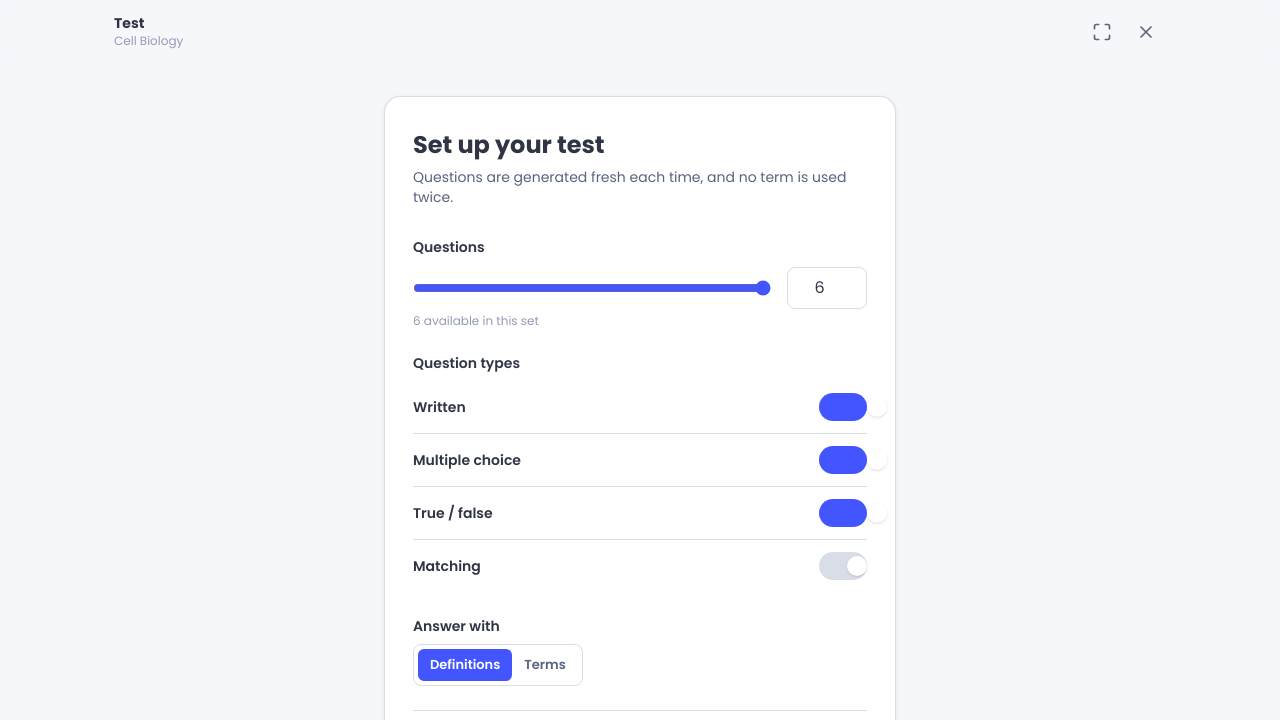
Scenario: Test › refuses to start with no question types selected
The image size is (1280, 720).
Expected: the heading "Set up your test" is shown, top-left (413, 128), bottom-right (605, 161)
Click the switch named "Written" at (843, 407), box top-left (819, 393), bottom-right (867, 421)
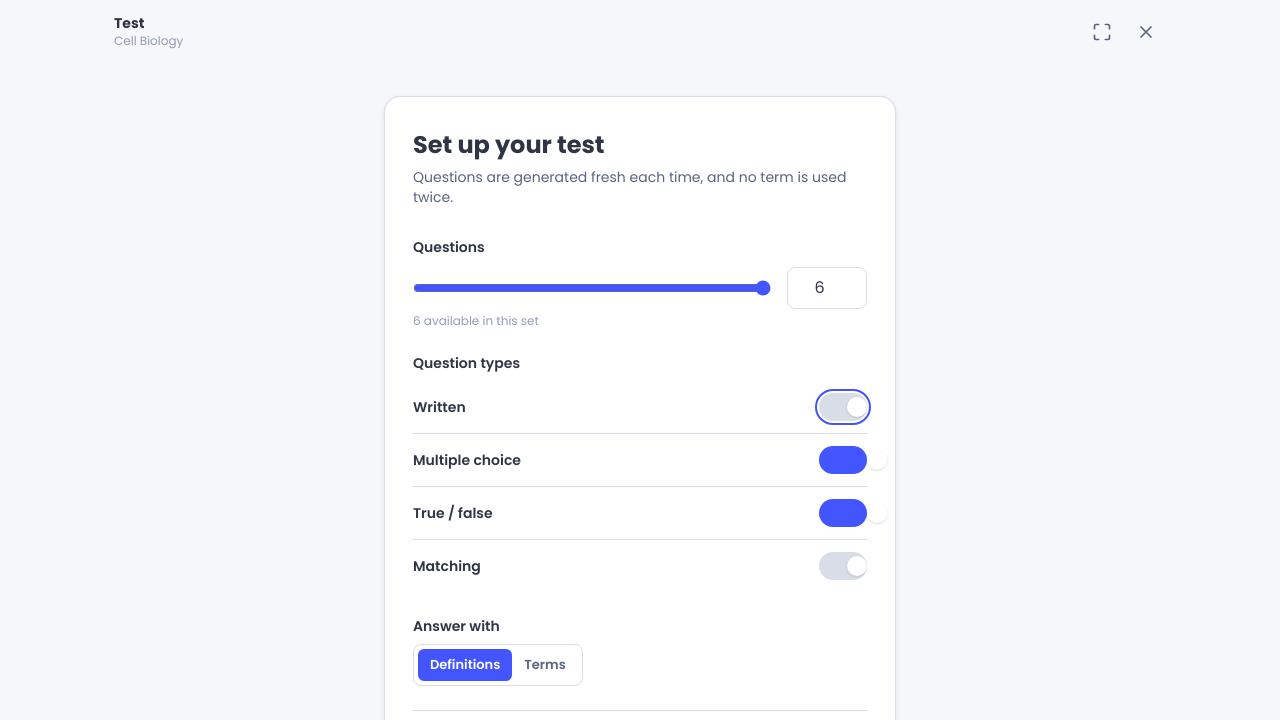
Click the switch named "Multiple choice" at (843, 460), box top-left (819, 446), bottom-right (867, 474)
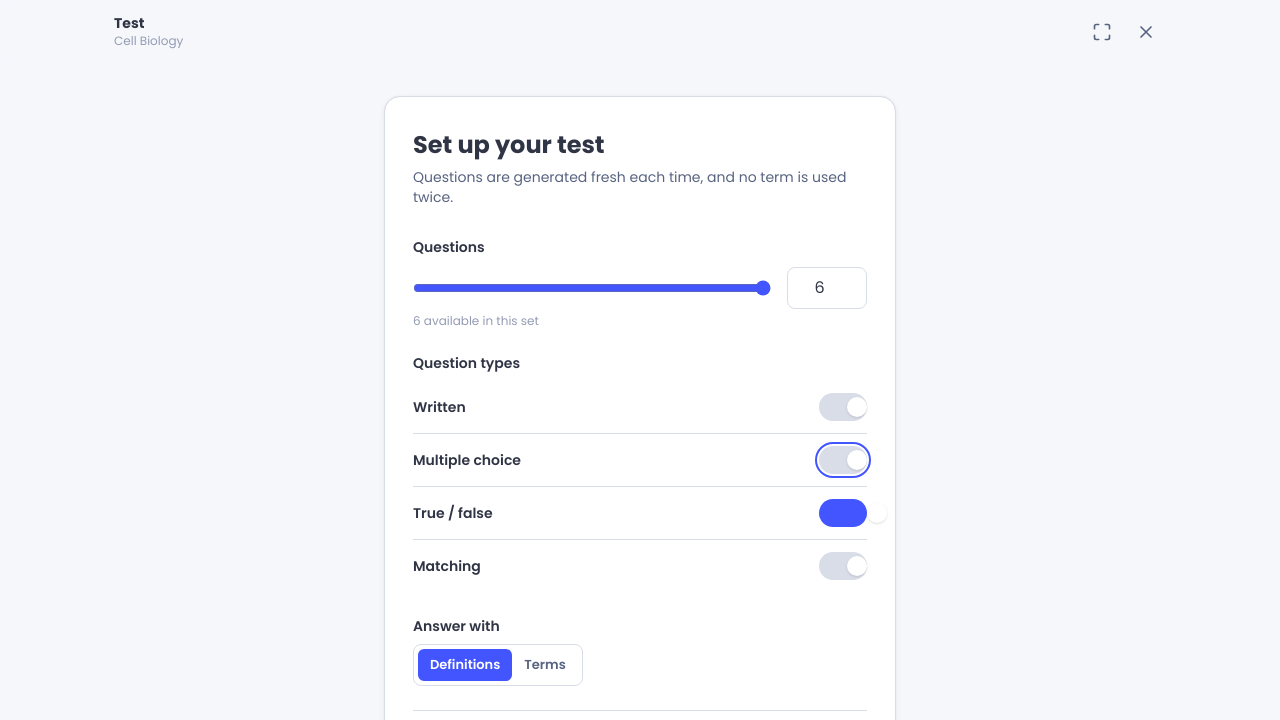
Click the switch named "True / false" at (843, 513), box top-left (819, 499), bottom-right (867, 527)
(page scrolled)
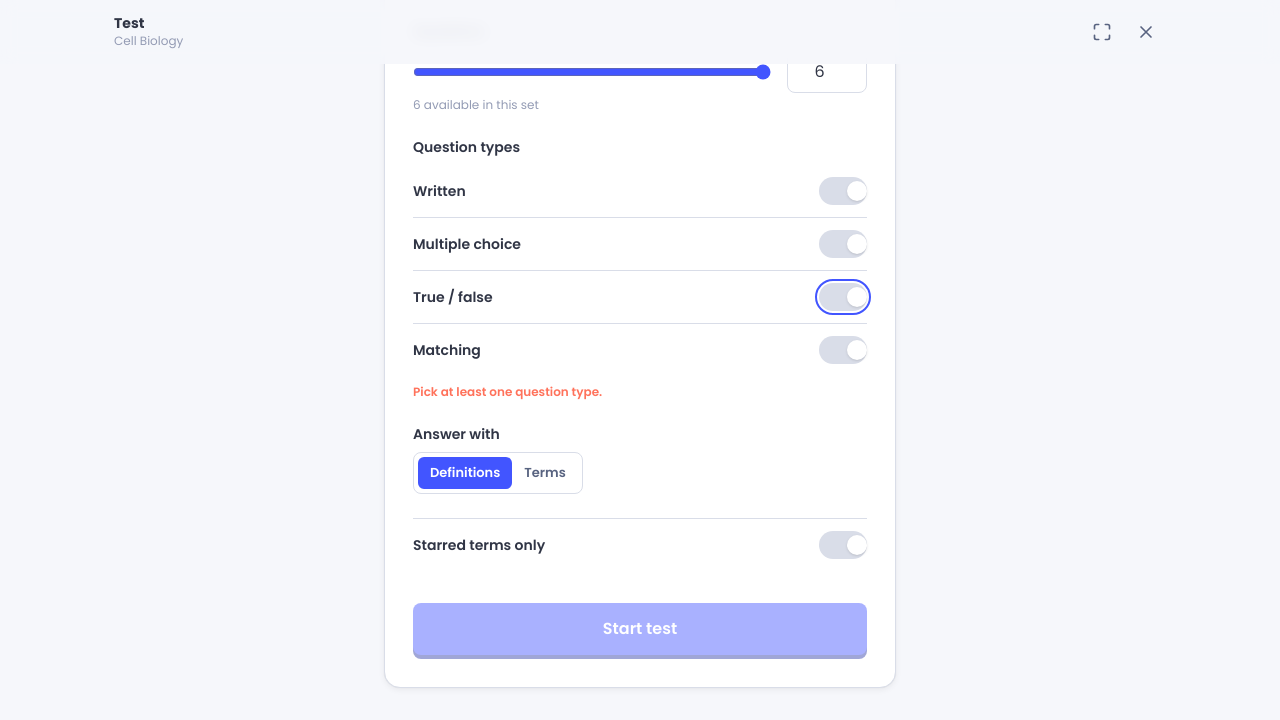
Expected: the text "Pick at least one question type." is shown, top-left (413, 383), bottom-right (602, 400)
Expected: the button "Start test" is disabled, top-left (413, 602), bottom-right (867, 654)
